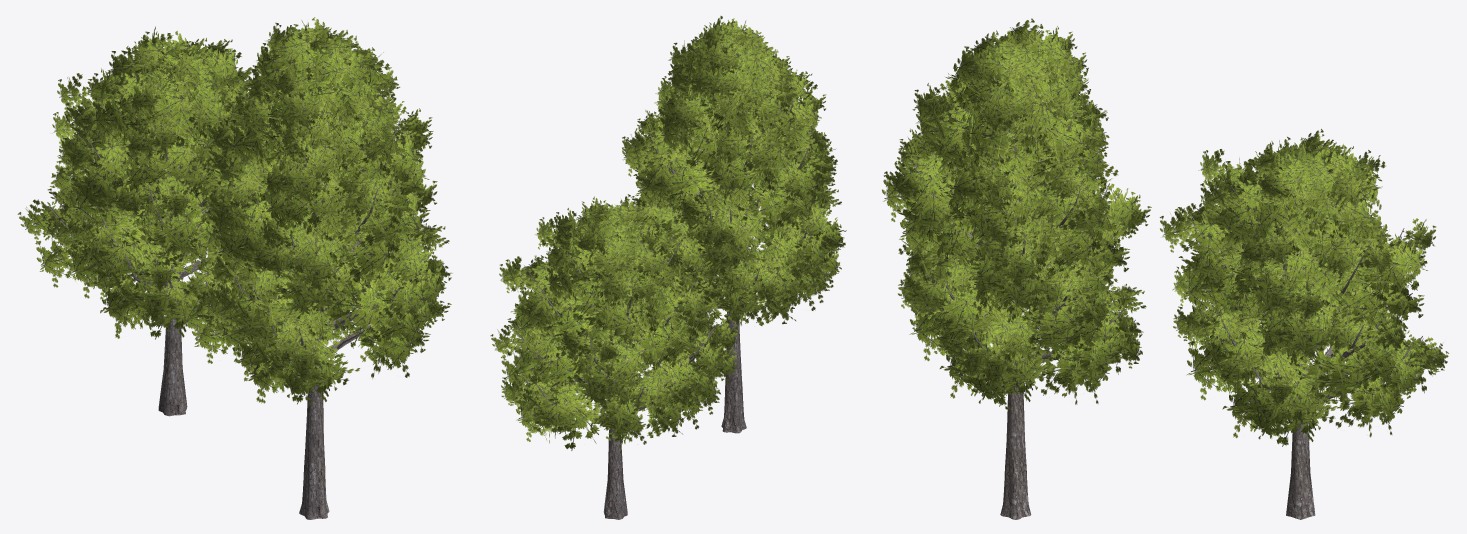
The model's file is trees.glb.
3 views of the same model, side by side, from view 1: azimuth 30°, elevation 25°; view 2: azimuth 150°, elevation 25°; view 3: azimuth 270°, elevation 25° (orthographic). The views are drawn at different scales.
Parts seen in each view (by area): view 1: tree4, tree6; view 2: tree4, tree6; view 3: tree4, tree6.
Part boxes in pixels (left/top/right/bottom): tree4: left=177, top=17, right=452, bottom=519; tree6: left=17, top=26, right=311, bottom=416; tree4: left=622, top=16, right=846, bottom=433; tree6: left=490, top=194, right=737, bottom=519; tree4: left=882, top=18, right=1151, bottom=519; tree6: left=1159, top=129, right=1448, bottom=519.
Bounding box in the file's own units: 580 × 1036 × 1100.
2 materials, 2 textured.
